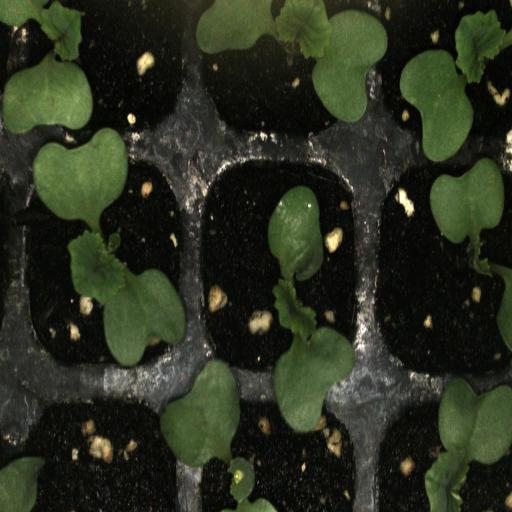seedling: (193, 150, 367, 396), (14, 147, 192, 382), (371, 158, 512, 390), (21, 0, 196, 147), (195, 0, 368, 148), (191, 390, 370, 512), (367, 0, 512, 146), (369, 388, 512, 512)
